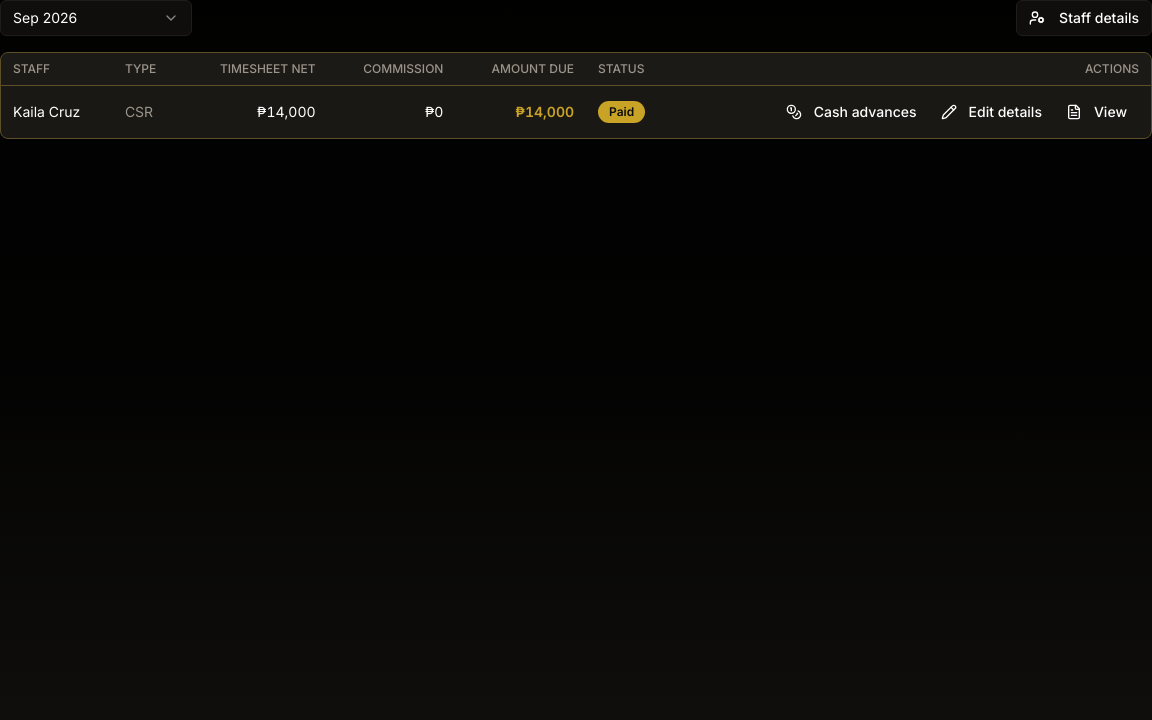
it: Paid payslip — adding the 2nd file later › one proof: offers Add 2nd proof, uploads it and attaches it
The width and height of the screenshot is (1152, 720).
Click the button "View": [1096, 112] box [1054,94,1139,130]
(page scrolled)
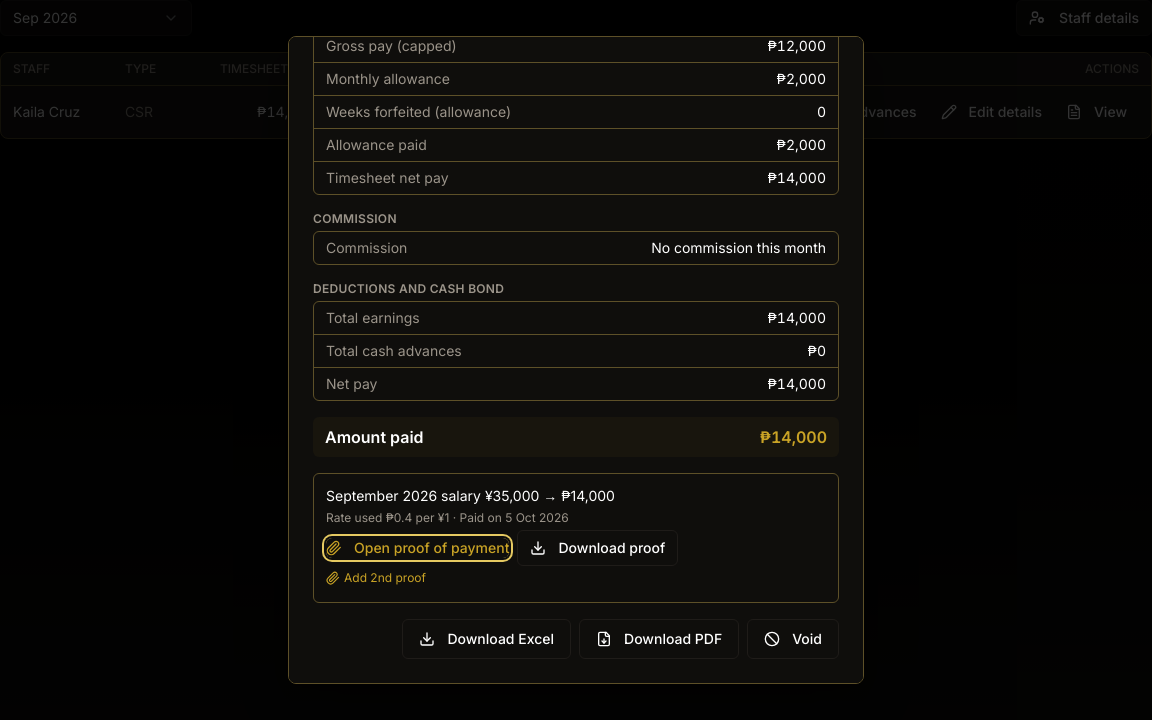
Expected: the button "Open proof of payment" is shown, [326,538,510,558]
